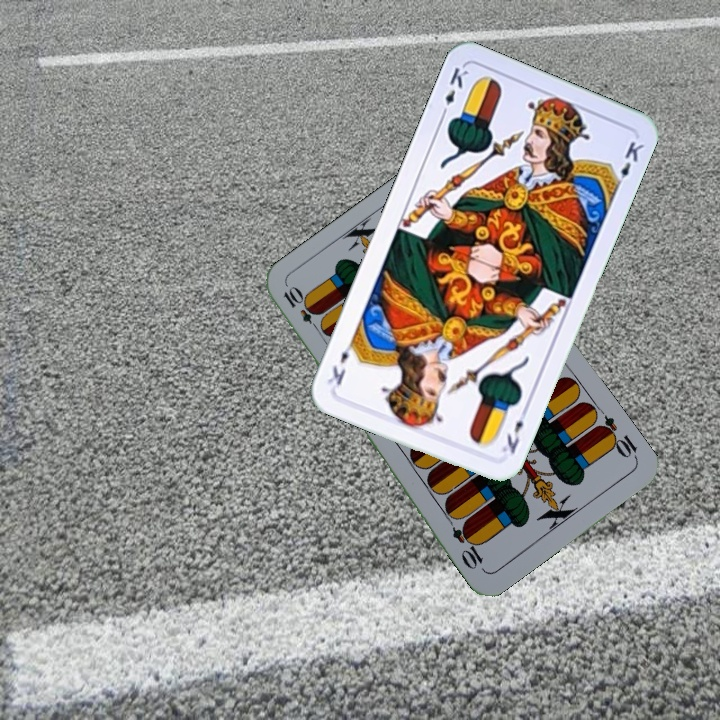E10: (593, 412, 641, 463), (279, 283, 325, 335)
EK: (436, 63, 471, 120), (498, 404, 531, 457)
